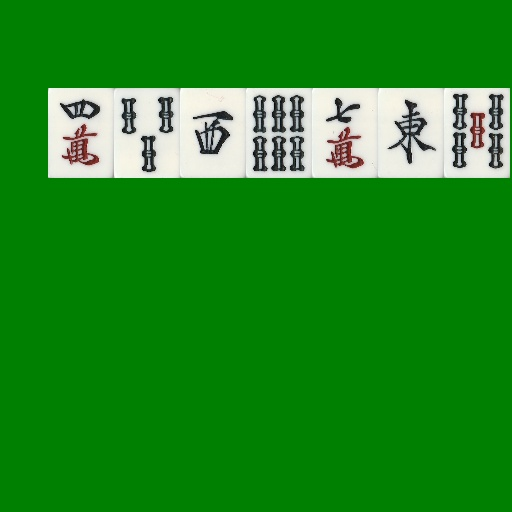3s: (114, 88, 180, 178)
4m: (48, 88, 114, 178)
5s: (444, 88, 510, 178)
6s: (246, 88, 312, 178)
7m: (312, 88, 378, 178)
east: (378, 88, 444, 178)
west: (180, 88, 246, 178)
